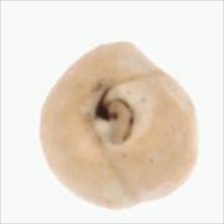L3: (87, 84, 135, 149)
L4: (39, 42, 199, 210)
